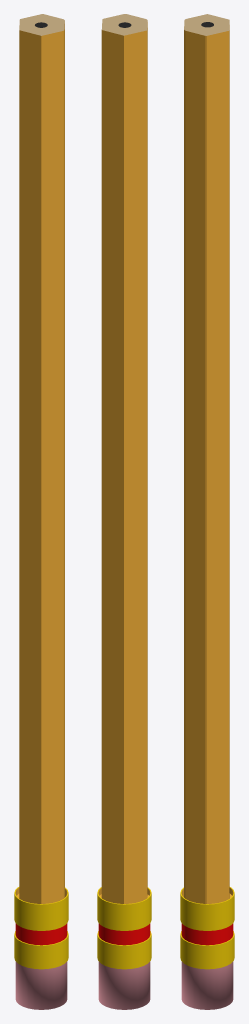
3 renders of one model, left to right at view 1: azimuth 90°, elevation 25°; view 2: azimuth 150°, elevation 25°; view 3: azimuth 270°, elevation 25°, orthographic.
Visible parts, largest first — view 1: SketchUp (×6); view 2: SketchUp (×6); view 3: SketchUp (×6).
Boxes of the visible parts, bbox=[...] form: SketchUp (×6): bbox=[14, 14, 68, 1009]; SketchUp (×6): bbox=[97, 14, 151, 1009]; SketchUp (×6): bbox=[180, 14, 234, 1009].
Bounding box in the file's own units: 1.05 × 1.05 × 20.69.
